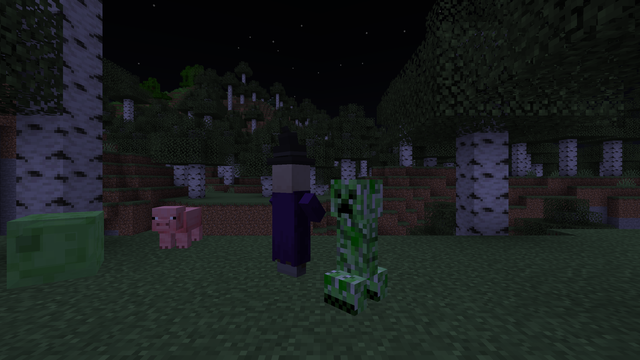cochons: (152, 206, 207, 248)
creepers: (333, 173, 383, 309)
slimes: (12, 209, 115, 283)
sorcieres: (271, 159, 309, 278)
